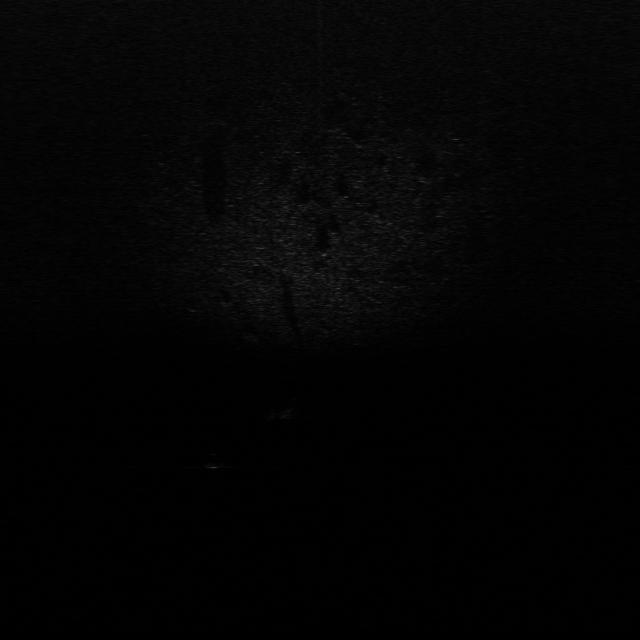ball: (202, 451, 229, 472)
human body: (270, 394, 300, 424)
